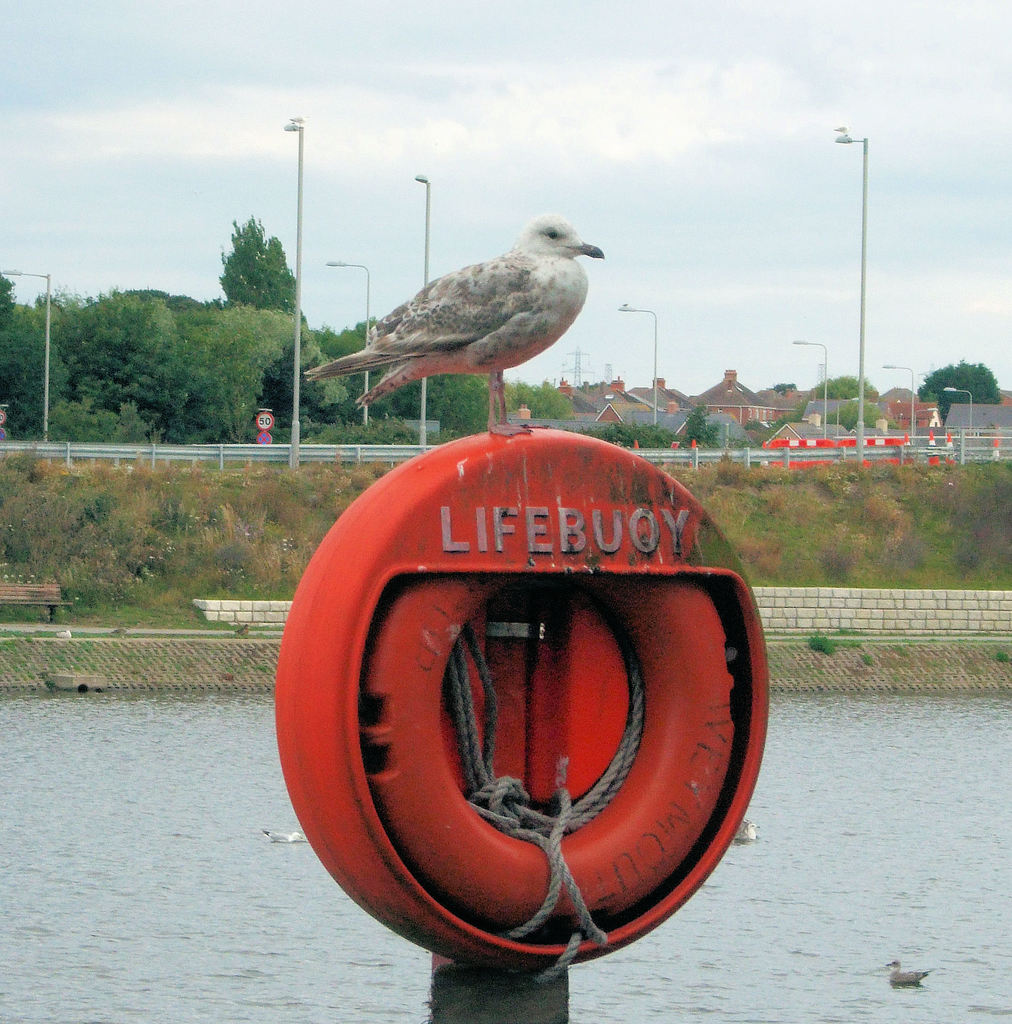Bird: (304, 211, 605, 436)
